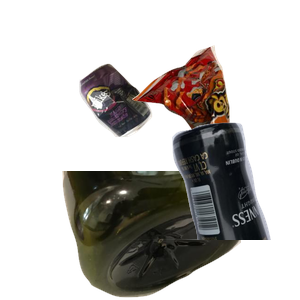glass: (106, 120, 300, 300)
metal: (77, 61, 222, 191)
plastic: (60, 171, 300, 300)
trash: (130, 43, 300, 190)
